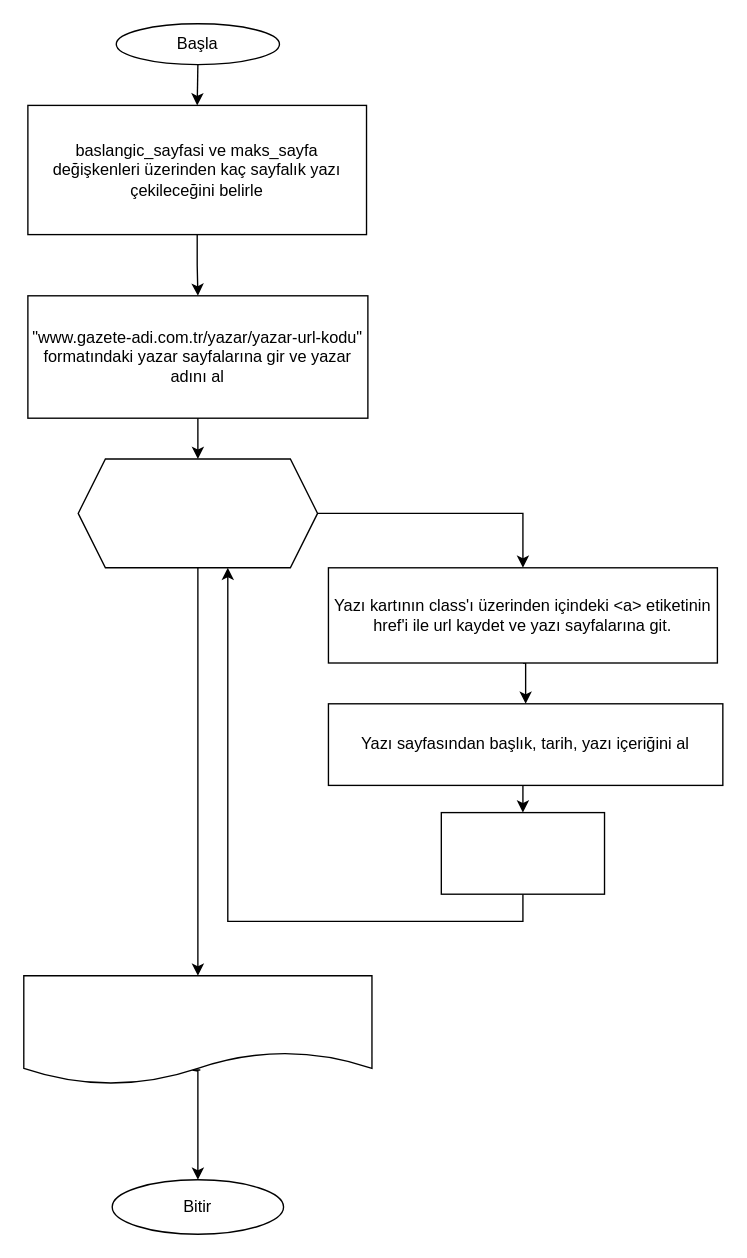
Image size: 747x1258. Some labels were removed from this diagram. Here are the shapes that lost their labels. From the top down, the box of each, then its label:
(77, 458, 318, 568): for sayfa in range(baslangic_sayfasi , maks_sayfa + 1)
(440, 811, 605, 894): yazar-adi.csv'ye kaydet
(22, 974, 372, 1085): -*- TÜM VERİLER BAŞARIYLA ÇEKİLDİ -*-
